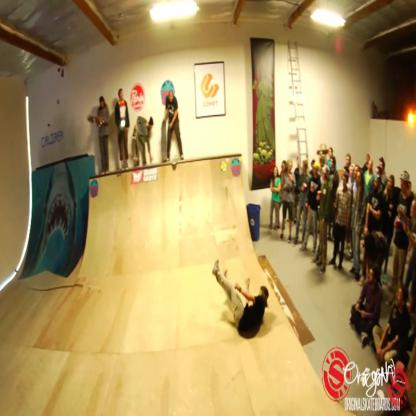Fall_Down: (211, 256, 271, 339)
